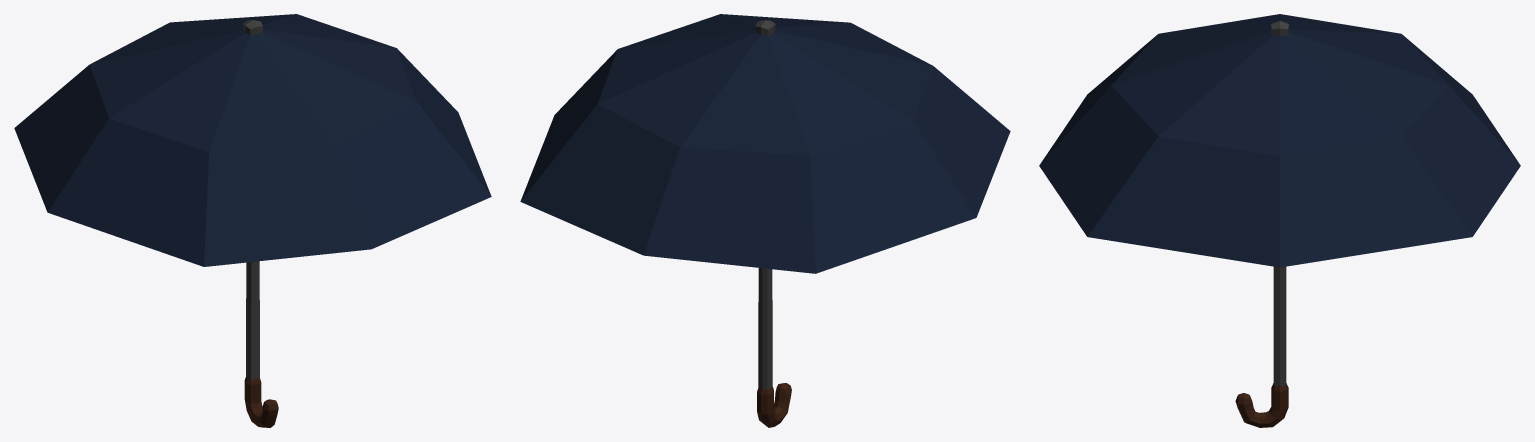
File: umbrella.glb
3 renders of one model, left to right at view 1: azimuth 30°, elevation 25°; view 2: azimuth 150°, elevation 25°; view 3: azimuth 270°, elevation 25°, orthographic. The views are drawn at different scales.
Parts seen in each view (by area): view 1: umbrella; view 2: umbrella; view 3: umbrella.
Part boxes in pixels (x1,y1,x2,y2): umbrella: (14, 14, 491, 427); umbrella: (520, 14, 1010, 427); umbrella: (1039, 14, 1520, 427).
Bounding box in the file's own units: 2 × 1.86 × 2.
